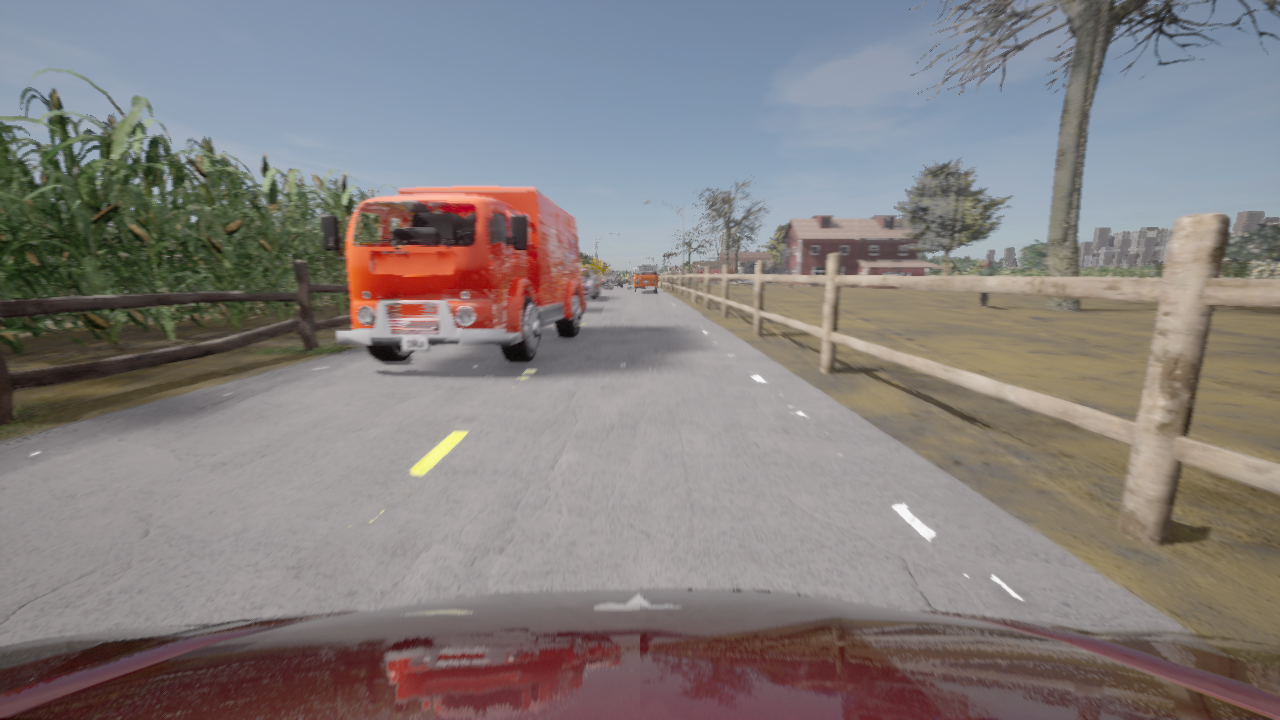cyclist: (0, 588, 1279, 719), (320, 186, 585, 362), (633, 263, 658, 292), (581, 269, 599, 299), (600, 271, 623, 287)
pedestrian: (977, 261, 993, 307), (220, 273, 221, 275)
